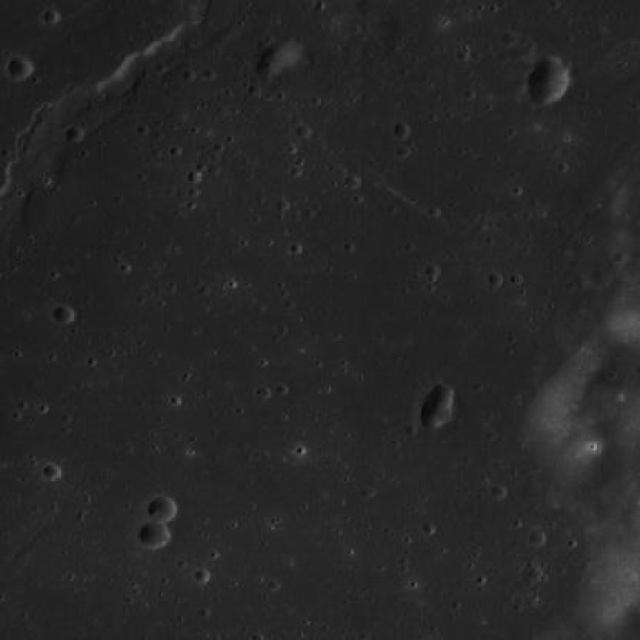crater: (523, 60, 571, 102), (416, 398, 449, 427), (136, 520, 169, 548), (147, 494, 176, 520), (8, 54, 32, 78), (428, 384, 454, 406), (264, 40, 290, 62), (254, 54, 280, 76), (52, 304, 74, 322), (42, 462, 61, 478), (64, 125, 82, 141)
